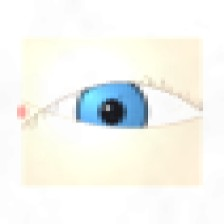pinguecula_lesion: (48, 106, 83, 133)
